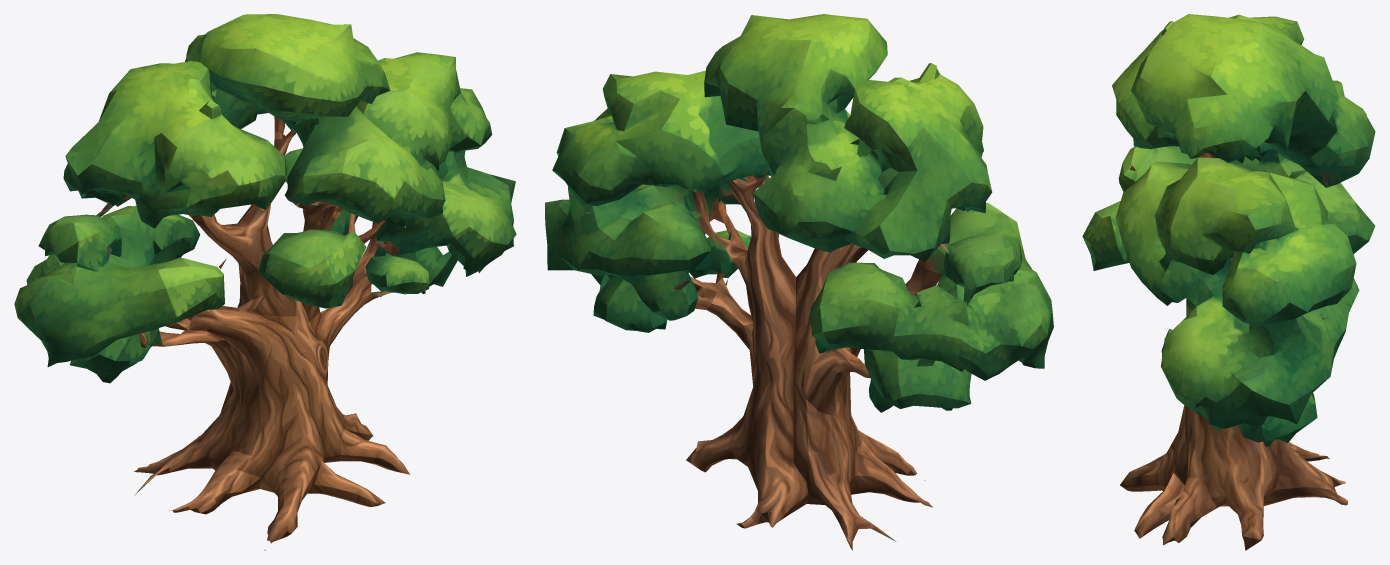
The model's file is arbol.glb.
3 views of the same model, side by side, from view 1: azimuth 30°, elevation 25°; view 2: azimuth 150°, elevation 25°; view 3: azimuth 270°, elevation 25° (orthographic).
Parts seen in each view (by area): view 1: Mesh_0; view 2: Mesh_0; view 3: Mesh_0.
Boxes of the visible parts, bbox=[...] form: Mesh_0: bbox=[14, 14, 516, 550]; Mesh_0: bbox=[545, 14, 1053, 550]; Mesh_0: bbox=[1082, 14, 1375, 550].
Size of the model in its own units: 1.84 by 1.68 by 0.9201.
1 material, 1 textured.
